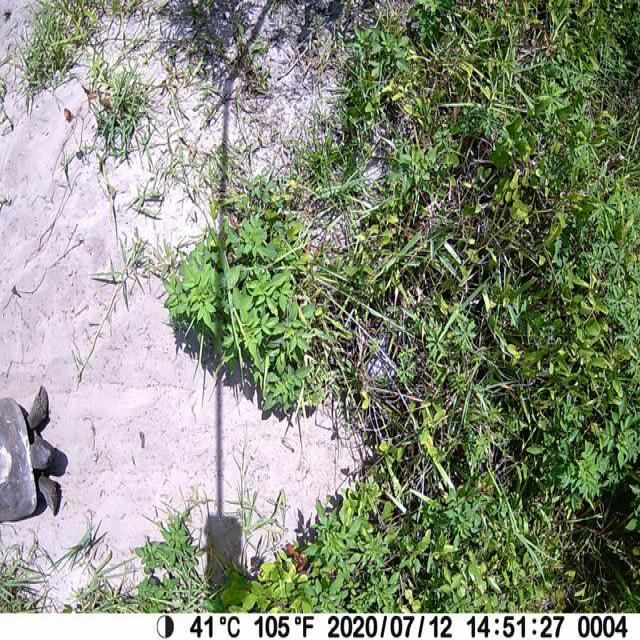tortoise: (0, 383, 59, 524)
